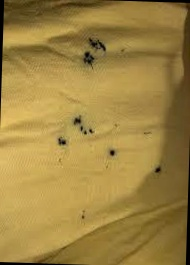ink: (73, 115, 95, 134), (90, 38, 107, 49), (81, 53, 94, 66), (58, 138, 66, 146), (154, 167, 161, 175), (109, 149, 115, 157)
